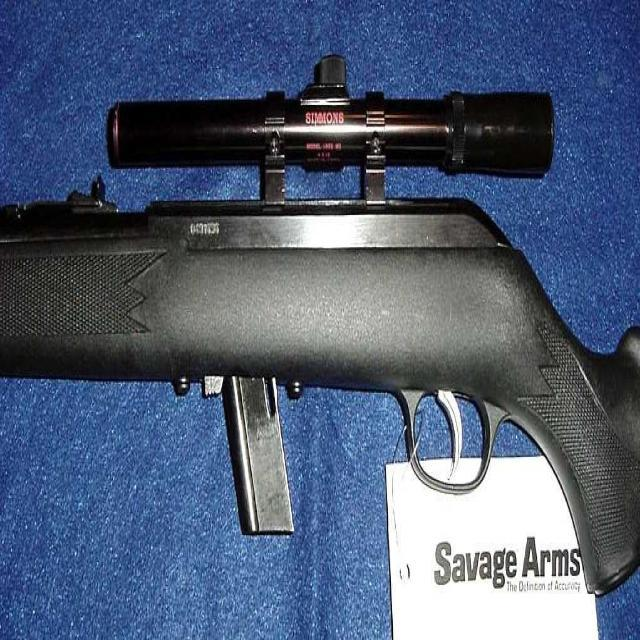weapon: (0, 158, 640, 610)
